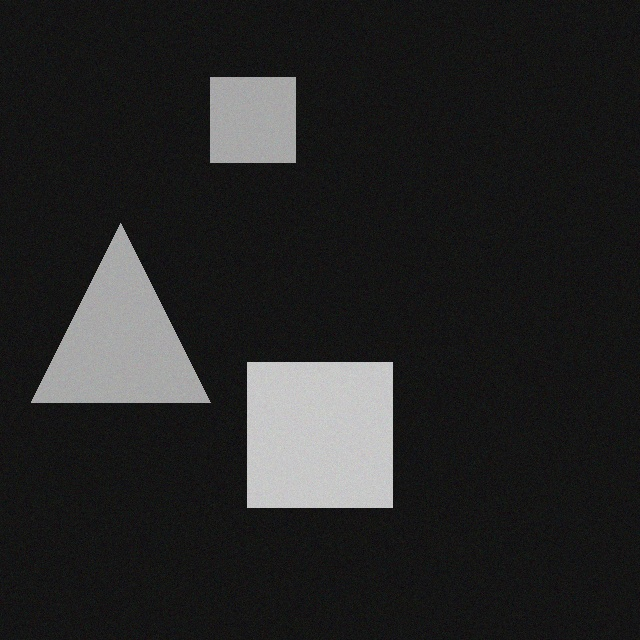square: (243, 355, 388, 500), (206, 70, 291, 155)
triangle: (27, 216, 206, 395)
